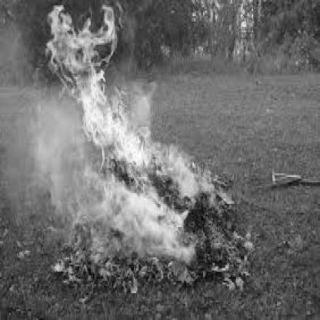Fire: (43, 0, 167, 177)
